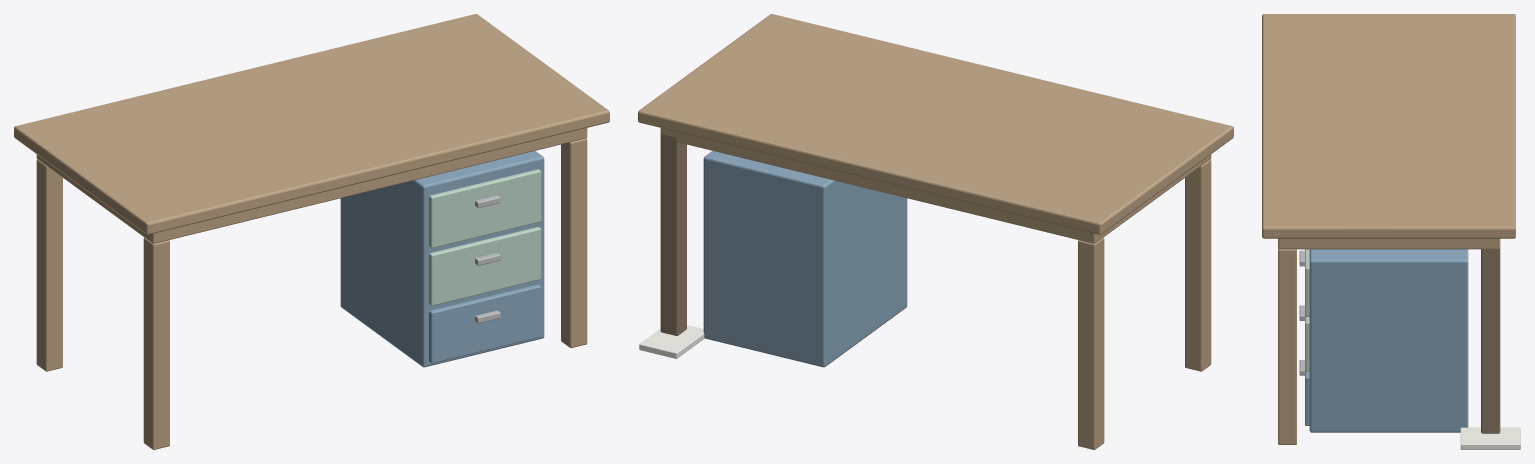
The model's file is workbench.fbx.
The picture shows the model from 3 angles, left to right: view 1: azimuth 30°, elevation 25°; view 2: azimuth 150°, elevation 25°; view 3: azimuth 270°, elevation 25°; orthographic projection. The views are drawn at different scales.
Parts seen in each view (by area): view 1: workbench; view 2: workbench; view 3: workbench.
Part boxes in pixels (x1,y1,x2,y2): workbench: (14, 14, 609, 449); workbench: (638, 14, 1233, 449); workbench: (1262, 14, 1520, 449).
Size of the model in its own units: 1.6 by 0.78 by 0.815.
